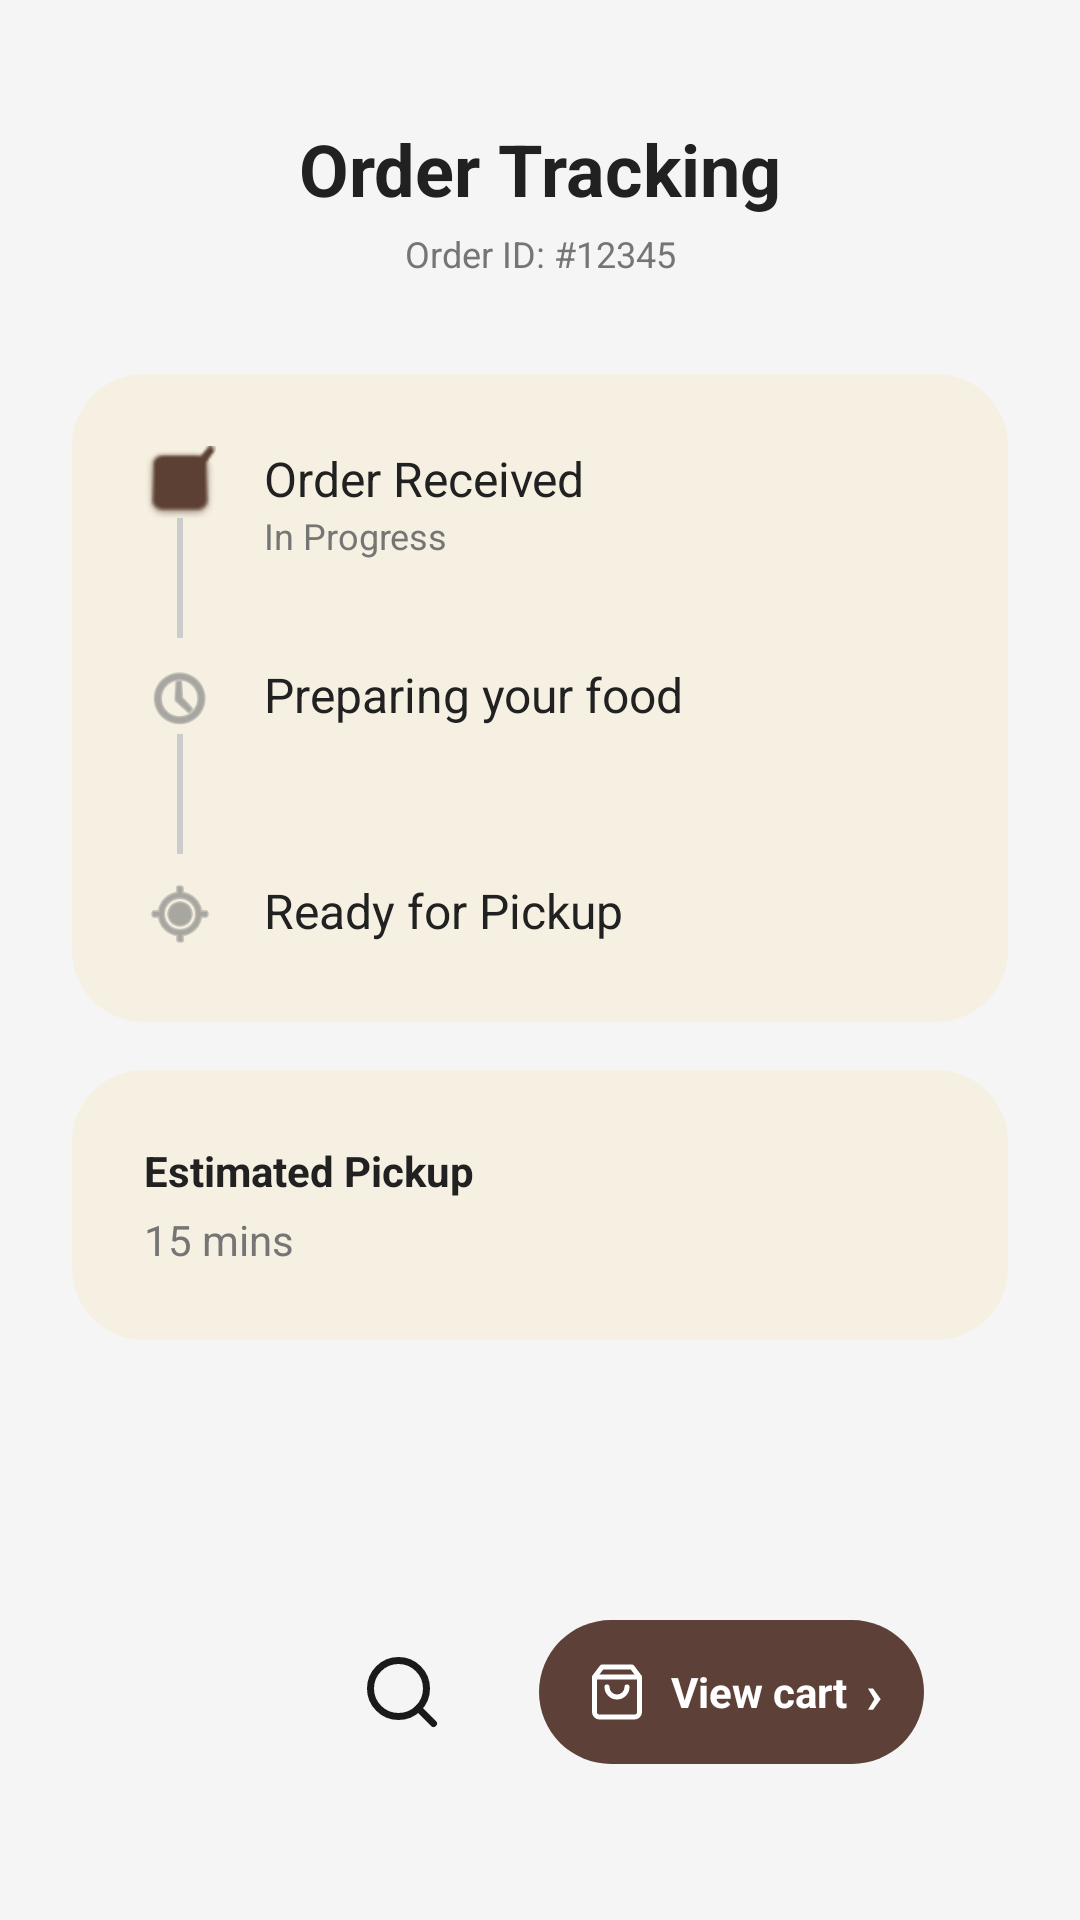

Screen size 1080px×1920px. Icon name, then its center in pixels as (x,y):
mylocation: (180,914)
recent history: (180,698)
Search: (402,1692)
